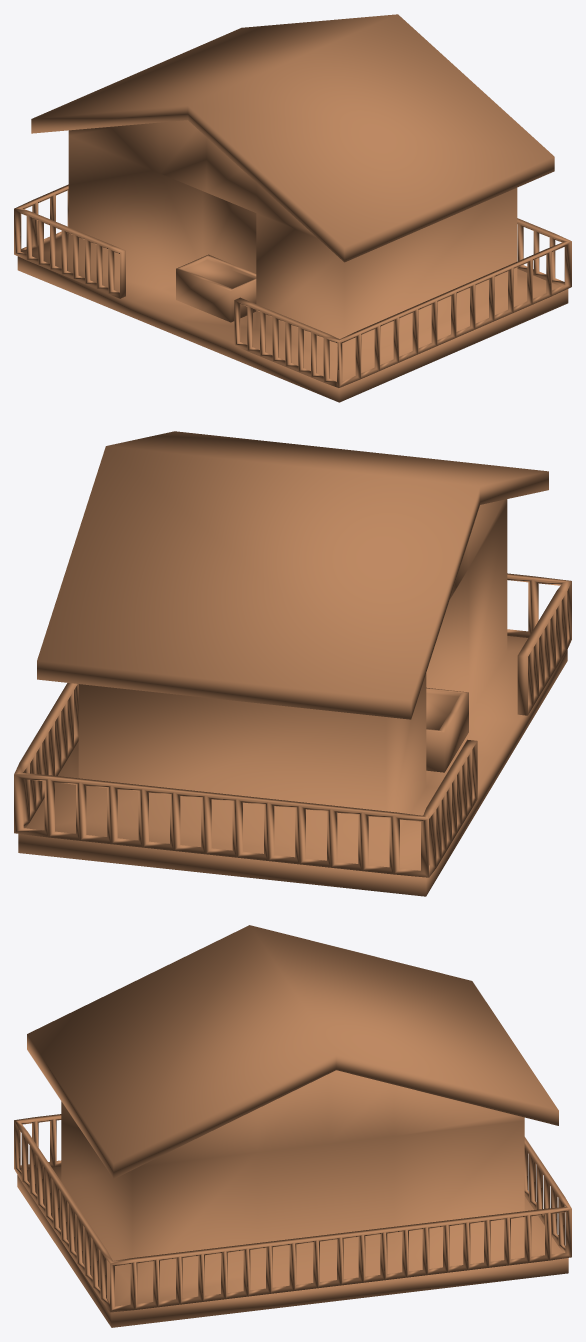
3 renders of one model, top to bottom at view 1: azimuth 30°, elevation 25°; view 2: azimuth 150°, elevation 25°; view 3: azimuth 270°, elevation 25°, orthographic. The views are drawn at different scales.
Parts seen in each view (by area): view 1: 社; view 2: 社; view 3: 社.
Part boxes in pixels (bbox=[...]): 社: bbox=[14, 14, 571, 402]; 社: bbox=[14, 431, 571, 896]; 社: bbox=[14, 925, 571, 1327].
Size of the model in its own units: 6.41 by 3.61 by 7.6.
